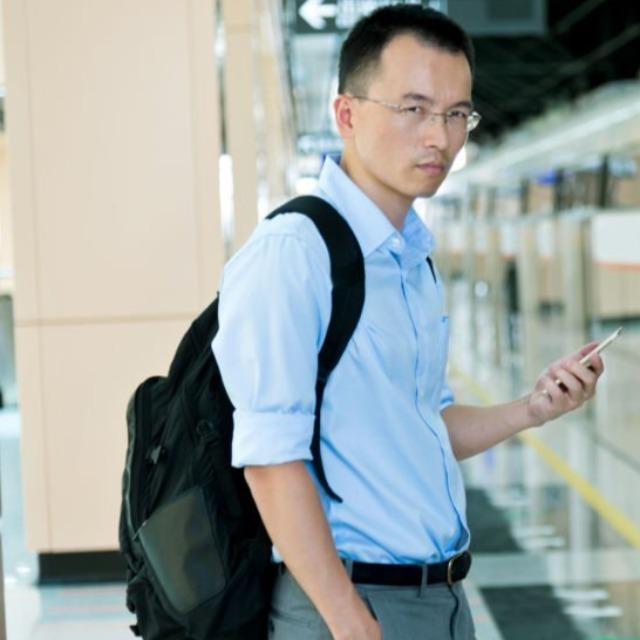Sin_Casco_Mascarrilla: (332, 6, 482, 194)
Sin_Chaleco: (227, 191, 473, 570)
